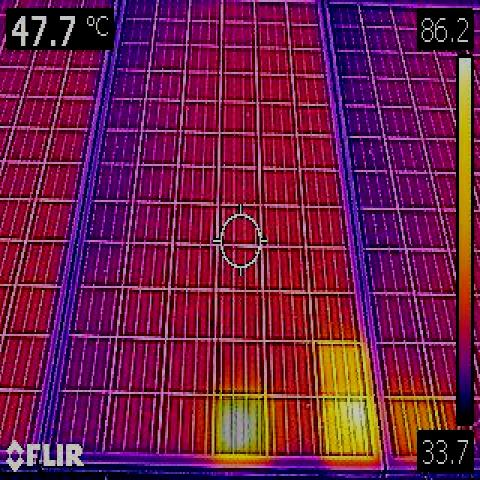fault: (322, 396, 376, 458), (319, 343, 368, 398), (219, 399, 262, 454)
